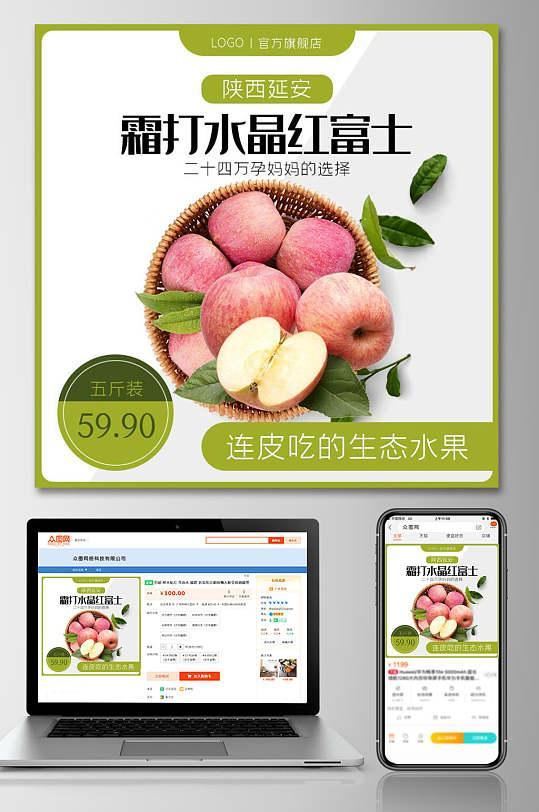apple: (214, 318, 328, 411), (293, 275, 393, 373), (198, 266, 296, 353), (207, 192, 287, 261), (280, 219, 358, 288), (160, 233, 230, 297), (429, 616, 456, 640), (79, 638, 104, 661), (450, 604, 473, 628), (97, 630, 118, 650)
